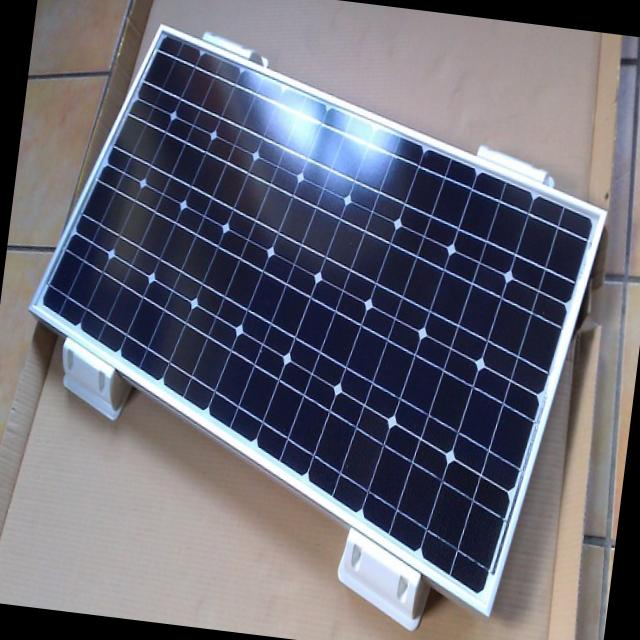no faulty: (38, 35, 589, 586)
